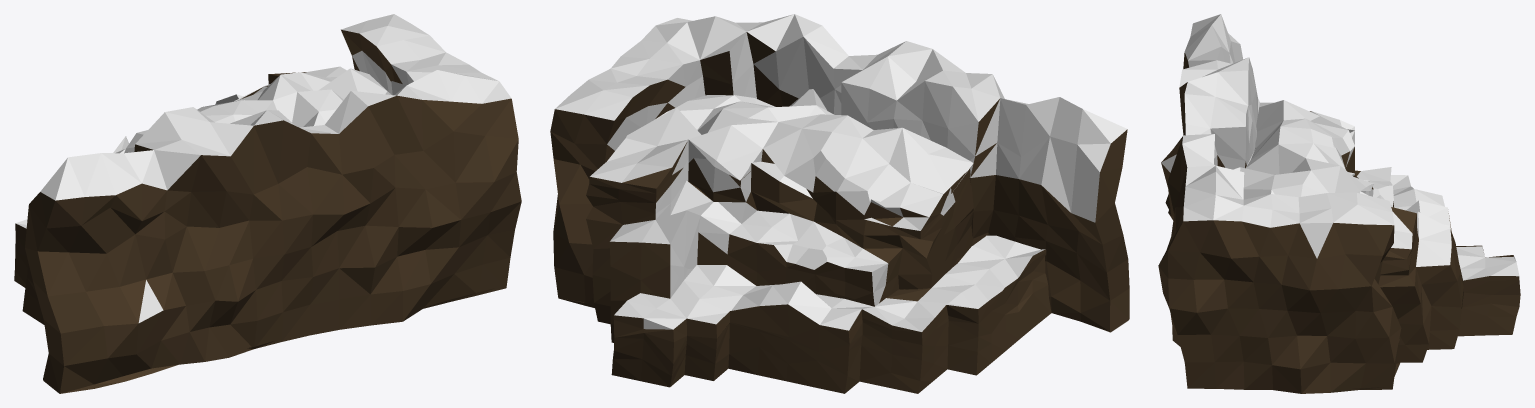
File: LowPoly Rock 3.fbx
The picture shows the model from 3 angles, left to right: view 1: azimuth 30°, elevation 25°; view 2: azimuth 150°, elevation 25°; view 3: azimuth 270°, elevation 25°; orthographic projection. The views are drawn at different scales.
Parts seen in each view (by area): view 1: Plane; view 2: Plane; view 3: Plane.
Part boxes in pixels (x1=…): Plane: x1=14, y1=14, x2=521, y2=393; Plane: x1=550, y1=14, x2=1129, y2=393; Plane: x1=1158, y1=14, x2=1520, y2=393.
Bounding box in the file's own units: 418 × 189 × 311.
